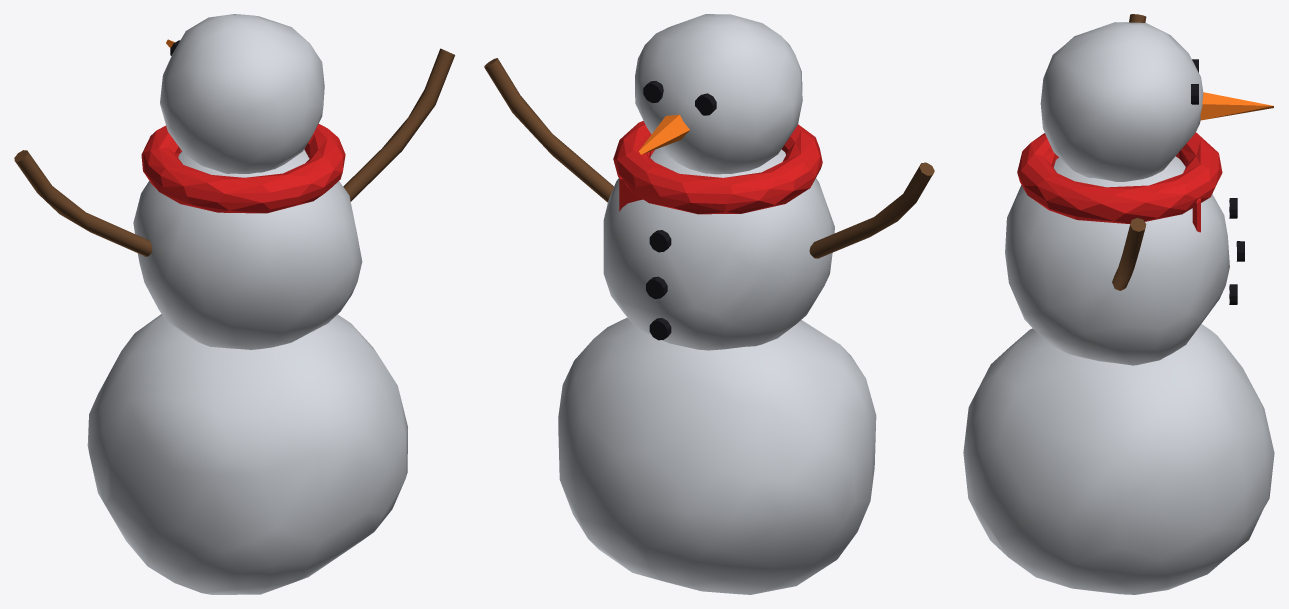
File: snowman.glb
3 views of the same model, side by side, from view 1: azimuth 30°, elevation 25°; view 2: azimuth 150°, elevation 25°; view 3: azimuth 270°, elevation 25° (orthographic). The views are drawn at different scales.
Visible parts, largest first — view 1: snowman; view 2: snowman; view 3: snowman.
Boxes of the visible parts, bbox=[...] form: snowman: bbox=[14, 14, 454, 594]; snowman: bbox=[484, 14, 934, 594]; snowman: bbox=[963, 14, 1274, 594].
Size of the model in its own units: 2.77 by 3.33 by 1.7.
